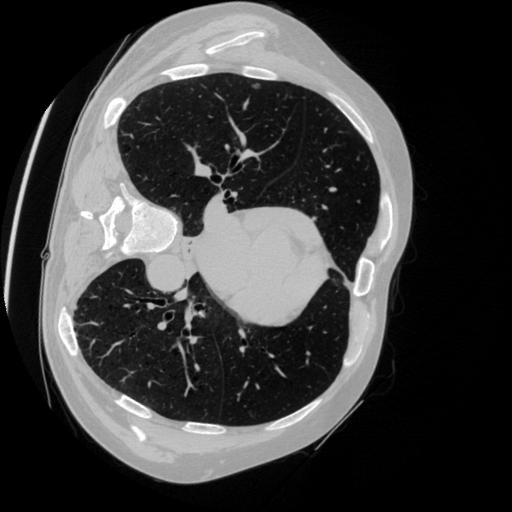nodule: (251, 79, 265, 93)
